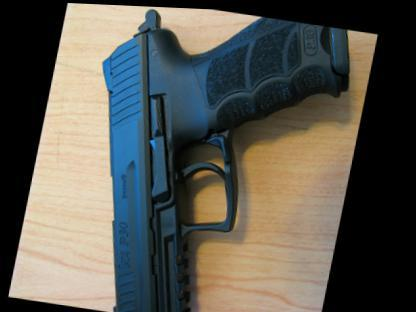pistol: (58, 2, 360, 311)
